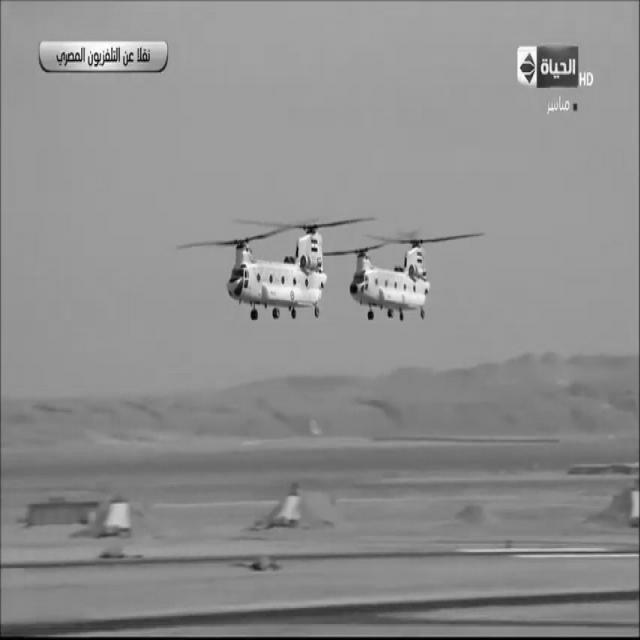helikopter: (205, 204, 328, 332), (342, 225, 450, 334)
